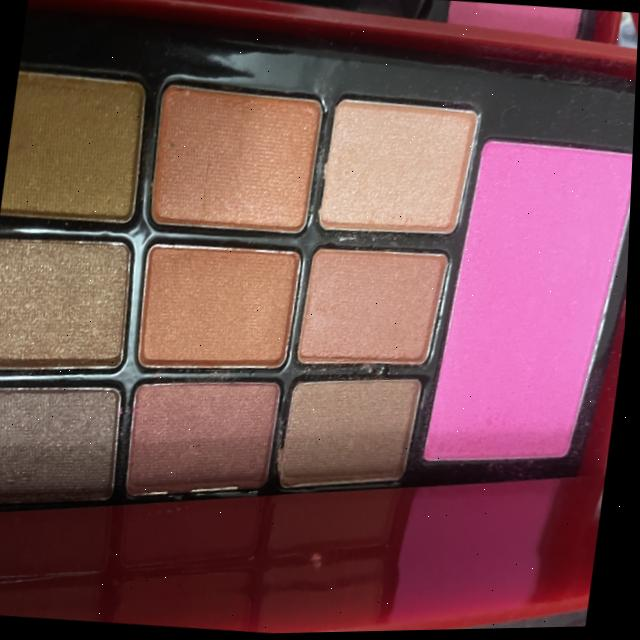blush: (414, 111, 636, 503)
eye shade: (0, 52, 480, 558)
